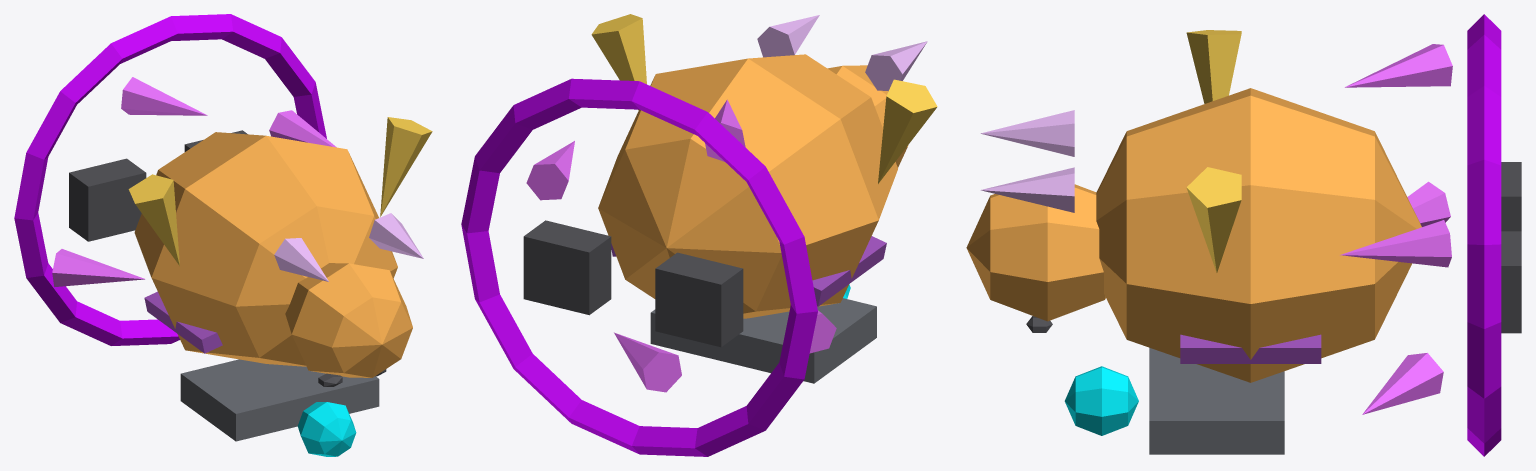
The model's file is TD_Enemy_AllRounder_Chaos.fbx.
The picture shows the model from 3 angles, left to right: view 1: azimuth 30°, elevation 25°; view 2: azimuth 150°, elevation 25°; view 3: azimuth 270°, elevation 25°; orthographic projection. The views are drawn at different scales.
Parts seen in each view (by area): view 1: TD_Enemy_AllRounder_Chaos_Body, TD_Enemy_AllRounder_Chaos_ChaosAura_Ring, TD_Enemy_AllRounder_Chaos_Head, TD_Enemy_AllRounder_Chaos_ArmorPlate, TD_Enemy_AllRounder_Chaos_Foot_Left, TD_Enemy_AllRounder_Chaos_SmallMagicCore, TD_Enemy_AllRounder_Chaos_SpeedFin_Right, TD_Enemy_AllRounder_Chaos_SpeedFin_Left, TD_Enemy_AllRounder_Chaos_ChaosFlameWisp_03, TD_Enemy_AllRounder_Chaos_ChaosFlameWisp_02, TD_Enemy_AllRounder_Chaos_ChaosAccent_01, TD_Enemy_AllRounder_Chaos_ChaosEnergySpike_01 (+2 smaller); view 2: TD_Enemy_AllRounder_Chaos_Body, TD_Enemy_AllRounder_Chaos_ChaosAura_Ring, TD_Enemy_AllRounder_Chaos_ArmorPlate, TD_Enemy_AllRounder_Chaos_Foot_Left, TD_Enemy_AllRounder_Chaos_Foot_Right, TD_Enemy_AllRounder_Chaos_SpeedFin_Left, TD_Enemy_AllRounder_Chaos_SpeedFin_Right, TD_Enemy_AllRounder_Chaos_ChaosFlameWisp_04, TD_Enemy_AllRounder_Chaos_ChaosFlameWisp_01, TD_Enemy_AllRounder_Chaos_ChaosEnergySpike_01, TD_Enemy_AllRounder_Chaos_ChaosEnergySpike_02, TD_Enemy_AllRounder_Chaos_ChaosAccent_01 (+3 smaller); view 3: TD_Enemy_AllRounder_Chaos_Body, TD_Enemy_AllRounder_Chaos_ChaosAura_Ring, TD_Enemy_AllRounder_Chaos_Head, TD_Enemy_AllRounder_Chaos_ArmorPlate, TD_Enemy_AllRounder_Chaos_SmallMagicCore, TD_Enemy_AllRounder_Chaos_SpeedFin_Right, TD_Enemy_AllRounder_Chaos_ChaosAccent_02, TD_Enemy_AllRounder_Chaos_SpeedFin_Left, TD_Enemy_AllRounder_Chaos_ChaosFlameWisp_01, TD_Enemy_AllRounder_Chaos_ChaosFlameWisp_02, TD_Enemy_AllRounder_Chaos_ChaosFlameWisp_04, TD_Enemy_AllRounder_Chaos_ChaosEnergySpike_01 (+4 smaller).
Part boxes in pixels (bbox=[...]): TD_Enemy_AllRounder_Chaos_Body: bbox=[134, 132, 397, 366]; TD_Enemy_AllRounder_Chaos_ChaosAura_Ring: bbox=[14, 14, 326, 345]; TD_Enemy_AllRounder_Chaos_Head: bbox=[285, 263, 412, 377]; TD_Enemy_AllRounder_Chaos_ArmorPlate: bbox=[180, 359, 379, 441]; TD_Enemy_AllRounder_Chaos_Foot_Left: bbox=[69, 158, 146, 241]; TD_Enemy_AllRounder_Chaos_SmallMagicCore: bbox=[297, 402, 356, 456]; TD_Enemy_AllRounder_Chaos_SpeedFin_Right: bbox=[380, 117, 432, 216]; TD_Enemy_AllRounder_Chaos_SpeedFin_Left: bbox=[128, 174, 179, 265]; TD_Enemy_AllRounder_Chaos_ChaosFlameWisp_03: bbox=[52, 249, 145, 286]; TD_Enemy_AllRounder_Chaos_ChaosFlameWisp_02: bbox=[121, 77, 207, 115]; TD_Enemy_AllRounder_Chaos_ChaosAccent_01: bbox=[144, 291, 222, 353]; TD_Enemy_AllRounder_Chaos_ChaosEnergySpike_01: bbox=[274, 238, 328, 281]; TD_Enemy_AllRounder_Chaos_Body: bbox=[598, 54, 897, 318]; TD_Enemy_AllRounder_Chaos_ChaosAura_Ring: bbox=[461, 78, 817, 456]; TD_Enemy_AllRounder_Chaos_ArmorPlate: bbox=[650, 298, 876, 383]; TD_Enemy_AllRounder_Chaos_Foot_Left: bbox=[655, 252, 743, 347]; TD_Enemy_AllRounder_Chaos_Foot_Right: bbox=[523, 220, 611, 315]; TD_Enemy_AllRounder_Chaos_SpeedFin_Left: bbox=[878, 79, 937, 183]; TD_Enemy_AllRounder_Chaos_SpeedFin_Right: bbox=[591, 14, 646, 110]; TD_Enemy_AllRounder_Chaos_ChaosFlameWisp_04: bbox=[614, 332, 681, 392]; TD_Enemy_AllRounder_Chaos_ChaosFlameWisp_01: bbox=[526, 141, 574, 200]; TD_Enemy_AllRounder_Chaos_ChaosEnergySpike_01: bbox=[865, 41, 927, 91]; TD_Enemy_AllRounder_Chaos_ChaosEnergySpike_02: bbox=[757, 15, 819, 57]; TD_Enemy_AllRounder_Chaos_ChaosAccent_01: bbox=[812, 236, 886, 306]; TD_Enemy_AllRounder_Chaos_Body: bbox=[1096, 88, 1421, 382]; TD_Enemy_AllRounder_Chaos_ChaosAura_Ring: bbox=[1467, 14, 1501, 456]; TD_Enemy_AllRounder_Chaos_Head: bbox=[966, 184, 1105, 321]; TD_Enemy_AllRounder_Chaos_ArmorPlate: bbox=[1149, 348, 1284, 454]; TD_Enemy_AllRounder_Chaos_SmallMagicCore: bbox=[1064, 366, 1138, 435]; TD_Enemy_AllRounder_Chaos_SpeedFin_Right: bbox=[1186, 167, 1241, 272]; TD_Enemy_AllRounder_Chaos_ChaosAccent_02: bbox=[1180, 334, 1321, 363]; TD_Enemy_AllRounder_Chaos_SpeedFin_Left: bbox=[1186, 30, 1241, 103]; TD_Enemy_AllRounder_Chaos_ChaosFlameWisp_01: bbox=[1340, 220, 1451, 267]; TD_Enemy_AllRounder_Chaos_ChaosFlameWisp_02: bbox=[1344, 44, 1452, 87]; TD_Enemy_AllRounder_Chaos_ChaosFlameWisp_04: bbox=[1362, 353, 1443, 414]; TD_Enemy_AllRounder_Chaos_ChaosEnergySpike_01: bbox=[980, 110, 1074, 156].
Size of the model in its own units: 0.655 by 0.655 by 0.82.
